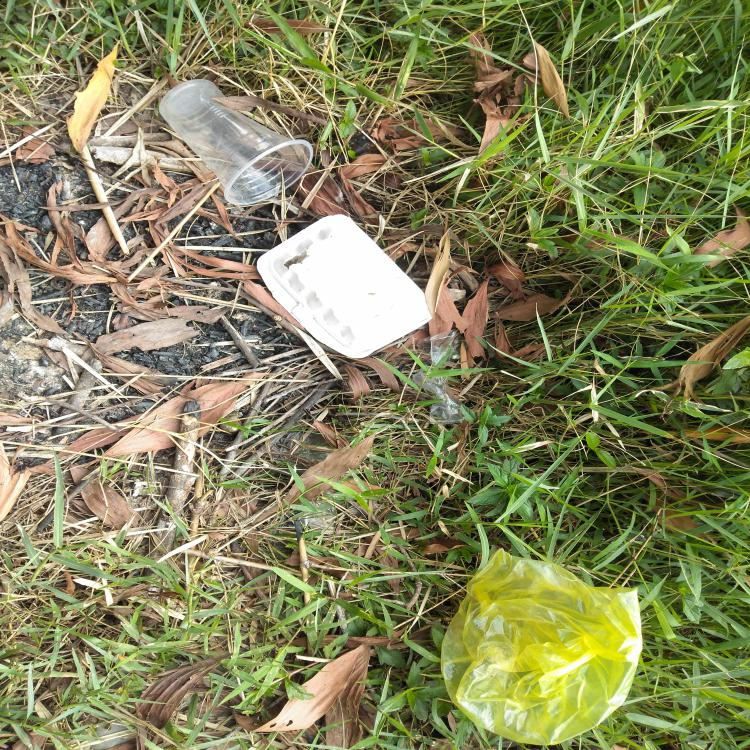Disposable plastic cup: (159, 79, 314, 206)
Plastic film: (412, 365, 464, 424), (418, 331, 467, 366)
Single-use carrier bag: (440, 548, 642, 746)
